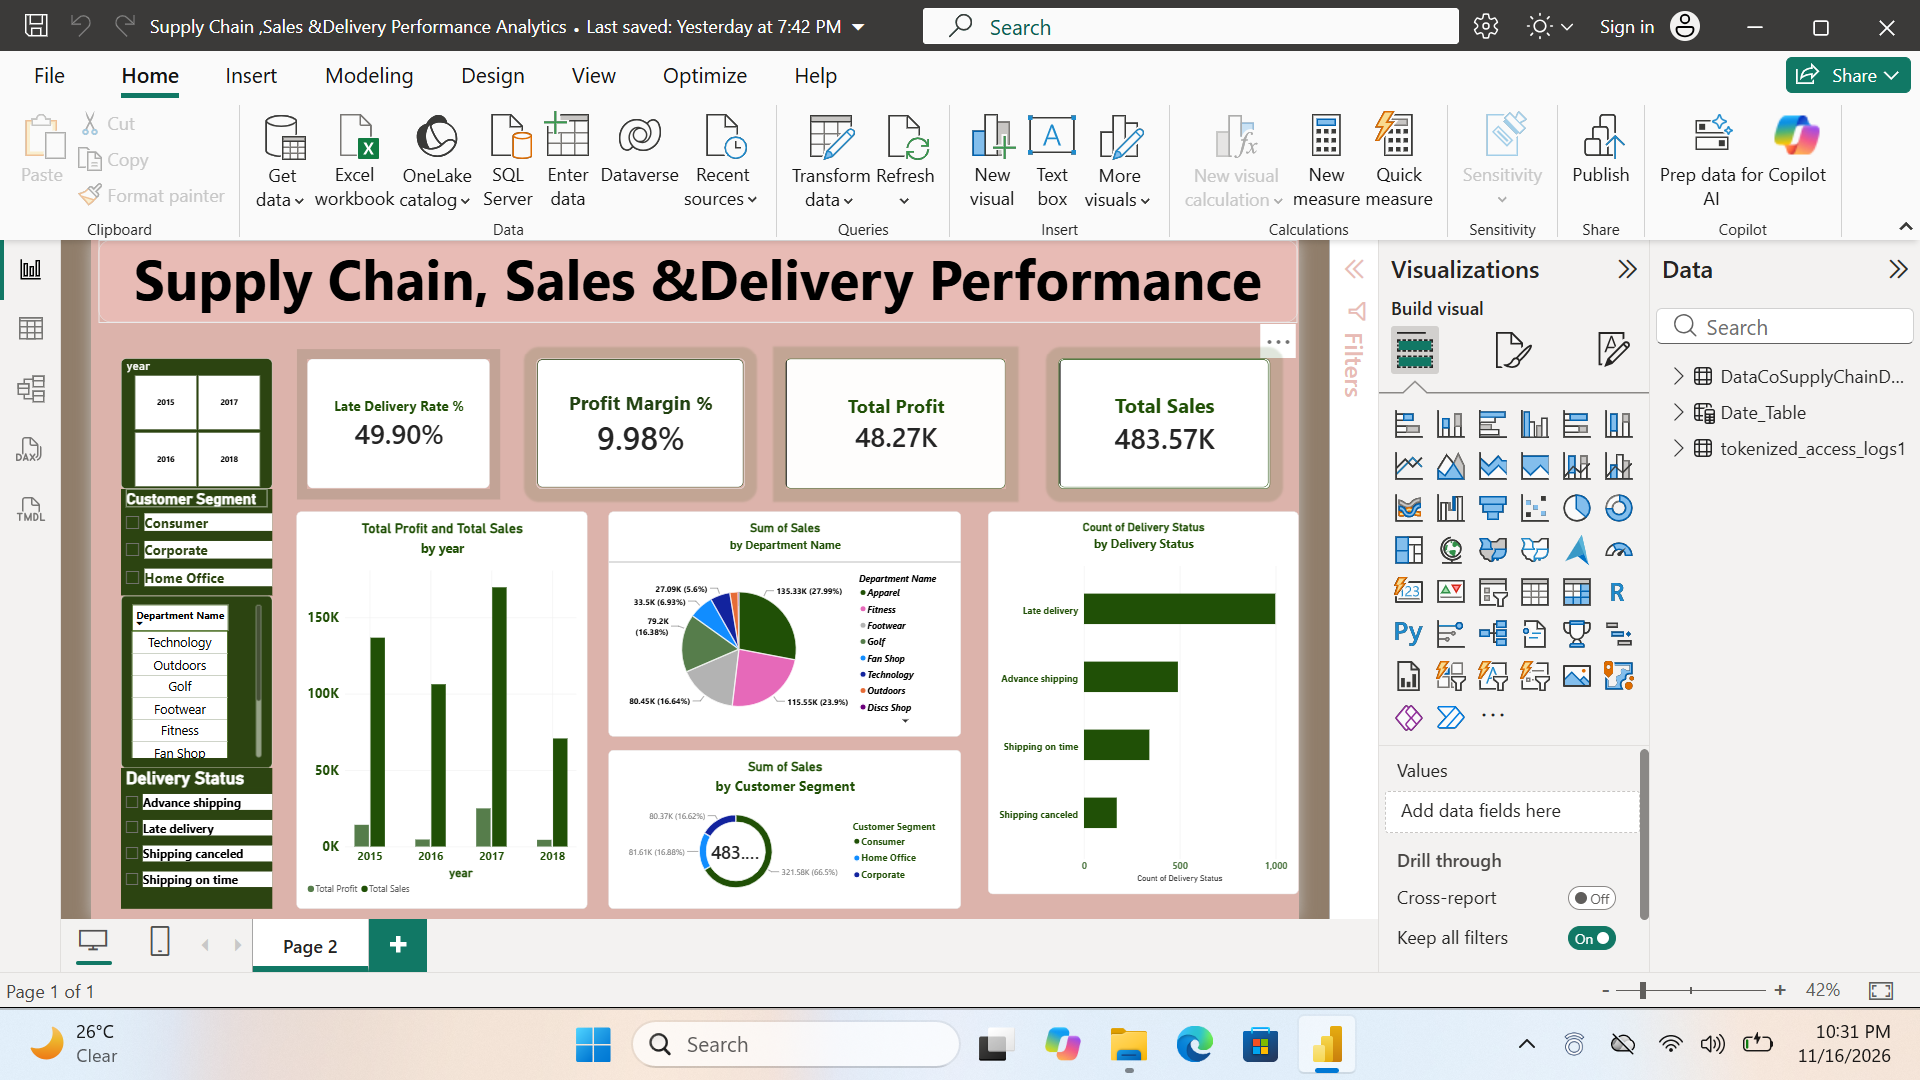

What the dashboard file says about the page in this screenshot:
{"tool":"powerbi","page":{"name":"Page 2","canvas":[1920,1080],"ordinal":0},"visuals":[{"type":"textbox","box":[11.3,0,1907.7,130.4],"z":0},{"type":"slicer","fields":{"Values":["Date_Table.year"]},"box":[47.7,188.5,241,207.6],"z":1},{"type":"slicer","fields":{"Values":["DataCoSupplyChainDataset3.Customer Segment"]},"box":[47.7,396.1,241,169.4],"z":6},{"type":"tableEx","fields":{"Values":["DataCoSupplyChainDataset3.Department Name"]},"box":[47.7,565.5,241,274.4],"z":7},{"type":"slicer","fields":{"Values":["DataCoSupplyChainDataset3.Delivery Status"]},"box":[47.7,839.8,241,224.3],"z":8},{"type":"cardVisual","fields":{"Data":["DataCoSupplyChainDataset3.Late Delivery Rate %"]},"box":[343.6,188.5,291.1,207.6],"z":9},{"type":"cardVisual","fields":{"Data":["DataCoSupplyChainDataset3.Profit Margin %"]},"box":[708.6,188.5,331.6,207.6],"z":10},{"type":"cardVisual","fields":{"Data":["DataCoSupplyChainDataset3.Total Profit"]},"box":[1104.7,188.5,350.7,207.6],"z":11},{"type":"cardVisual","fields":{"Data":["DataCoSupplyChainDataset3.Total Sales"]},"box":[1538.9,188.5,336.4,207.6],"z":12},{"type":"clusteredColumnChart","fields":{"Category":["Date_Table.year"],"Y":["DataCoSupplyChainDataset3.Total Profit","DataCoSupplyChainDataset3.Total Sales"]},"box":[326.9,431.9,462.9,632.3],"z":13},{"type":"clusteredBarChart","fields":{"Category":["DataCoSupplyChainDataset3.Delivery Status"],"Y":["CountNonNull(DataCoSupplyChainDataset3.Delivery Status)"]},"box":[1426.8,431.9,493.9,608.4],"z":14},{"type":"pieChart","fields":{"Category":["DataCoSupplyChainDataset3.Department Name"],"Y":["Sum(DataCoSupplyChainDataset3.Sales)"]},"box":[823.1,431.9,560.7,357.9],"z":15},{"type":"donutChart","fields":{"Category":["DataCoSupplyChainDataset3.Customer Segment"],"Y":["Sum(DataCoSupplyChainDataset3.Sales)"]},"box":[823.1,811.2,560.7,252.9],"z":16}]}

Visuals, with their boxes on the page's 1920x1080 design canvas (x1, y1, x2, y2). These are canvas units, not pixel positions in the 1920x1080 screenshot, which may show the page scaled, cropped or inside an application window:
textbox: box=[11, 0, 1919, 130]
slicer - Date_Table.year: box=[48, 188, 289, 396]
slicer - DataCoSupplyChainDataset3.Customer Segment: box=[48, 396, 289, 566]
tableEx - DataCoSupplyChainDataset3.Department Name: box=[48, 566, 289, 840]
slicer - DataCoSupplyChainDataset3.Delivery Status: box=[48, 840, 289, 1064]
cardVisual - DataCoSupplyChainDataset3.Late Delivery Rate %: box=[344, 188, 635, 396]
cardVisual - DataCoSupplyChainDataset3.Profit Margin %: box=[709, 188, 1040, 396]
cardVisual - DataCoSupplyChainDataset3.Total Profit: box=[1105, 188, 1455, 396]
cardVisual - DataCoSupplyChainDataset3.Total Sales: box=[1539, 188, 1875, 396]
clusteredColumnChart - Date_Table.year x DataCoSupplyChainDataset3.Total Profit: box=[327, 432, 790, 1064]
clusteredBarChart - DataCoSupplyChainDataset3.Delivery Status x CountNonNull(DataCoSupplyChainDataset3.Delivery Status): box=[1427, 432, 1921, 1040]
pieChart - DataCoSupplyChainDataset3.Department Name x Sum(DataCoSupplyChainDataset3.Sales): box=[823, 432, 1384, 790]
donutChart - DataCoSupplyChainDataset3.Customer Segment x Sum(DataCoSupplyChainDataset3.Sales): box=[823, 811, 1384, 1064]
